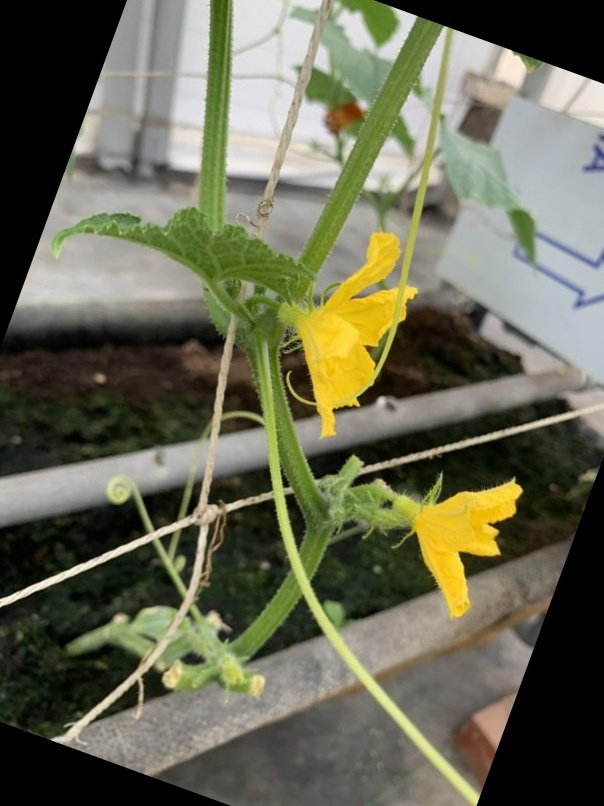flowering: (276, 239, 425, 438), (412, 449, 522, 620)
